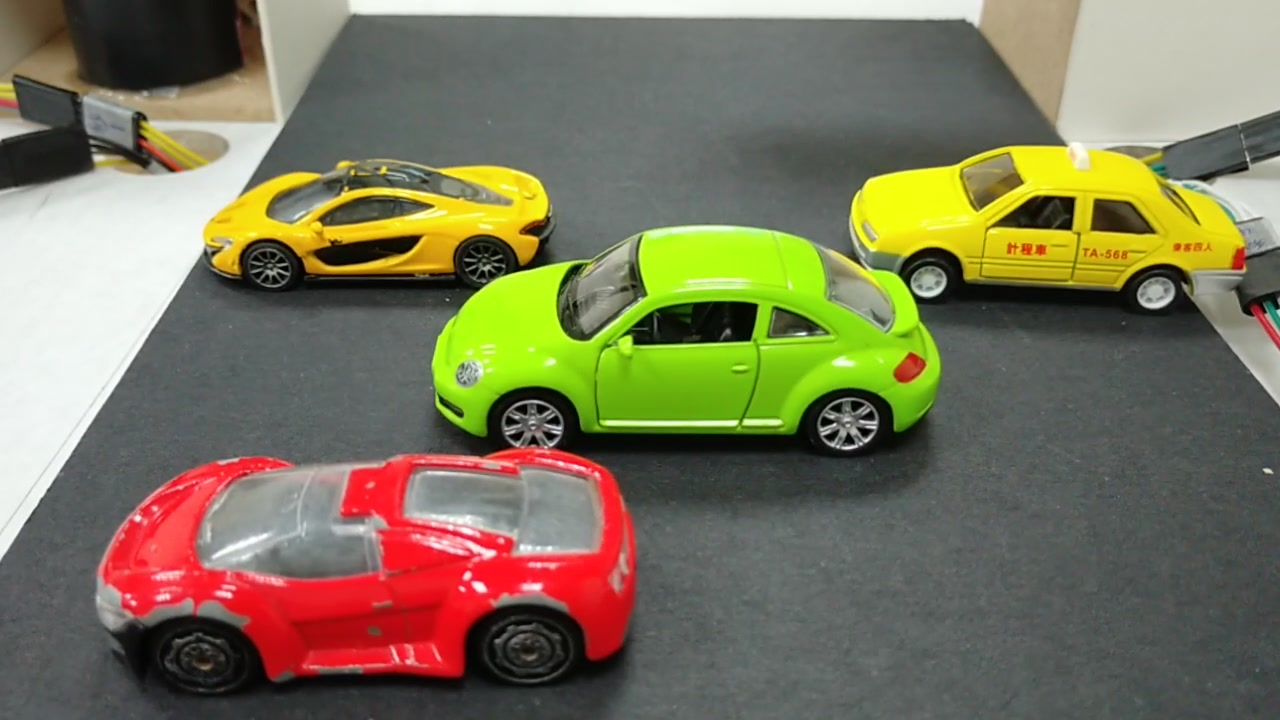car: (102, 471, 623, 707), (439, 230, 939, 458), (856, 149, 1251, 302), (214, 170, 546, 277)
